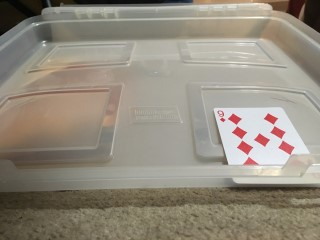NineOfDiamonds: (213, 107, 319, 185)
